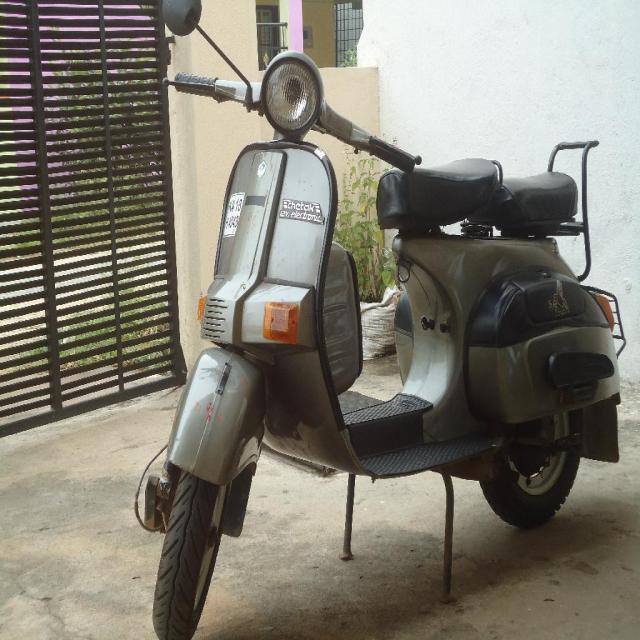motorcycle: (146, 53, 622, 635)
